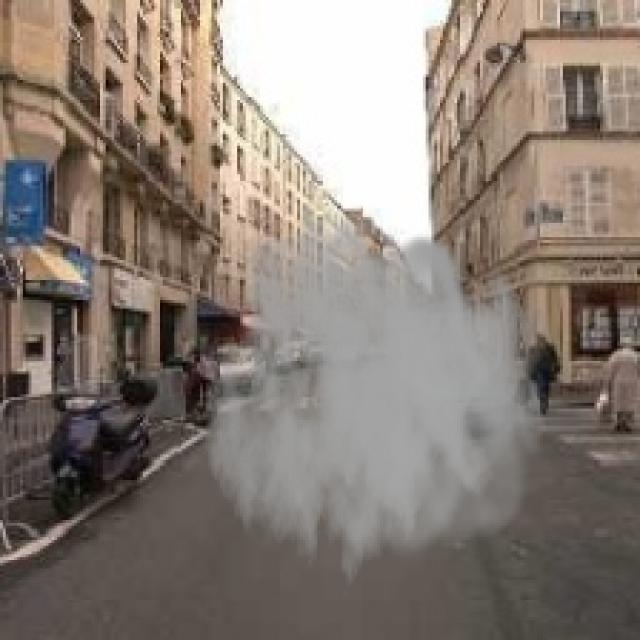smoke: (203, 200, 546, 606)
